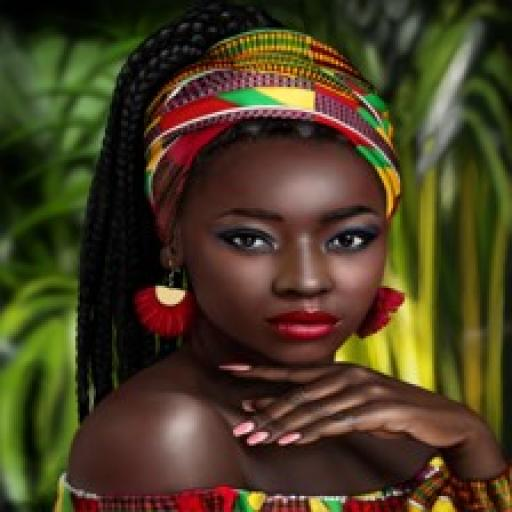human: (48, 16, 512, 512)
